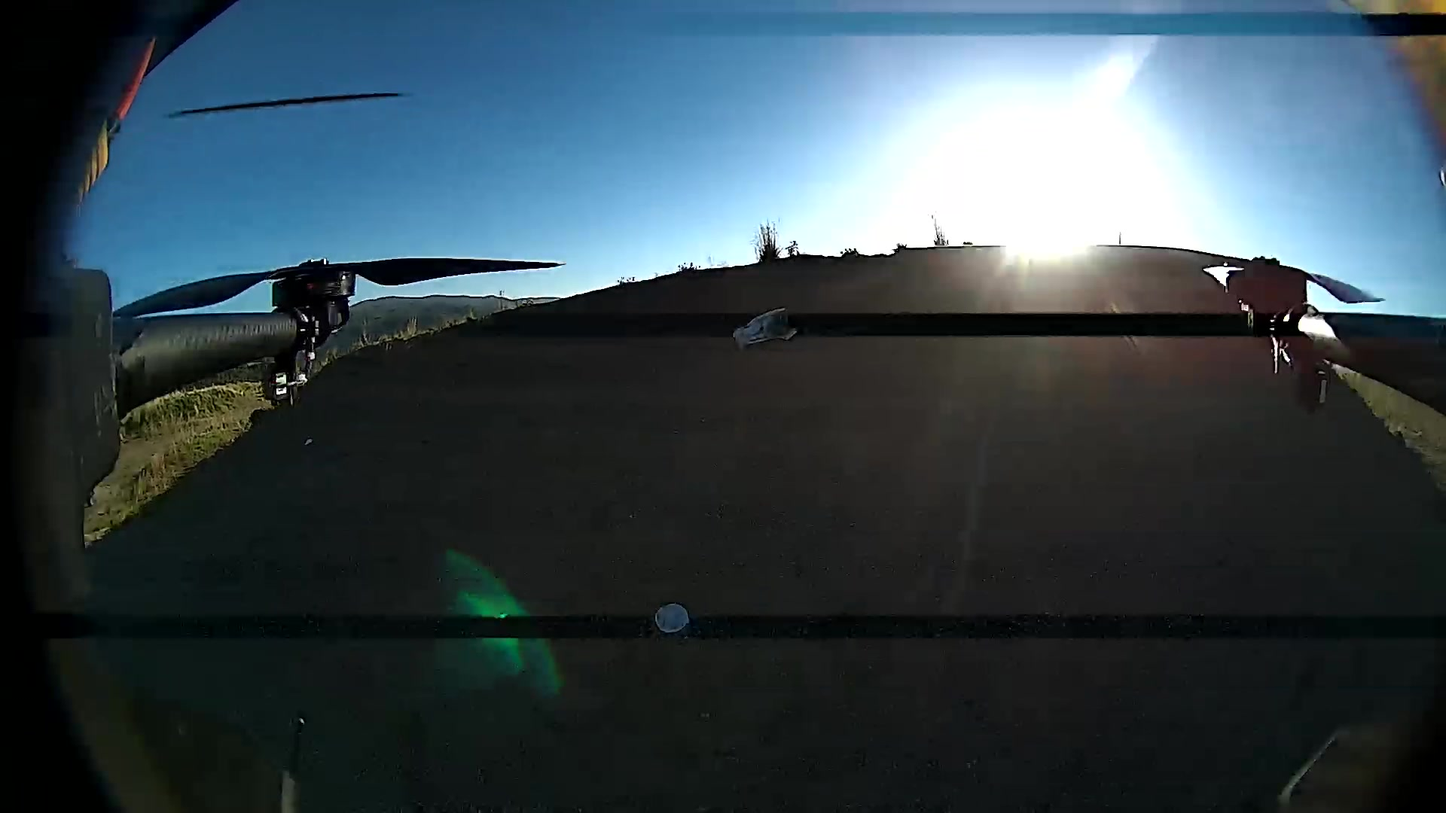Target: (653, 601, 692, 635)
